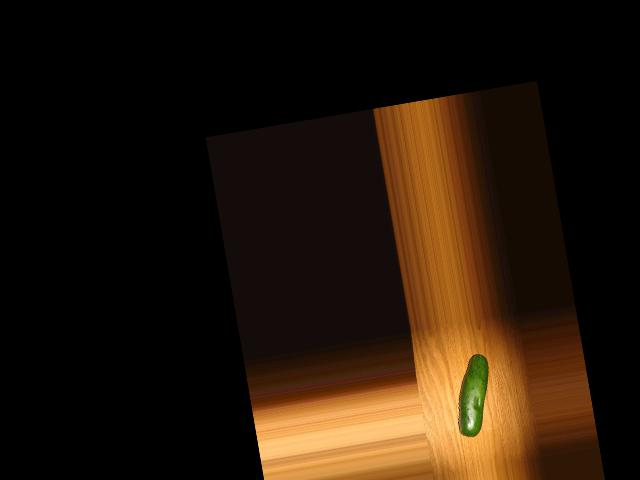cucumber: (447, 352, 498, 437)
